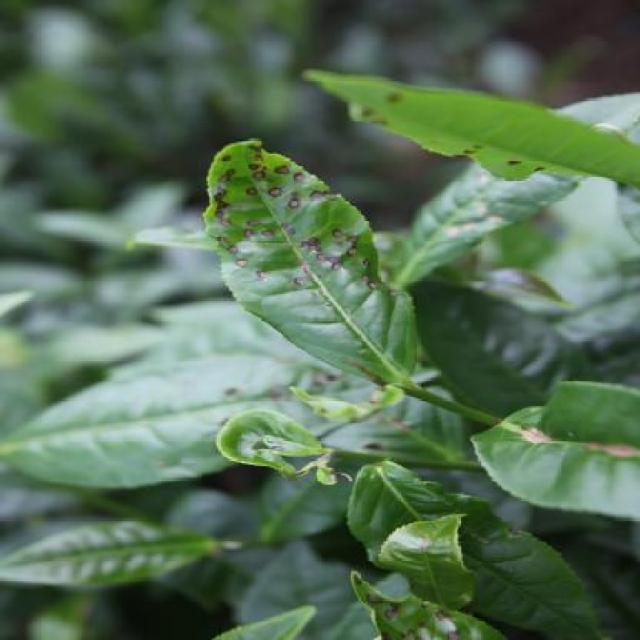Tea Mosquito bug infested leaf: (201, 132, 417, 382)
